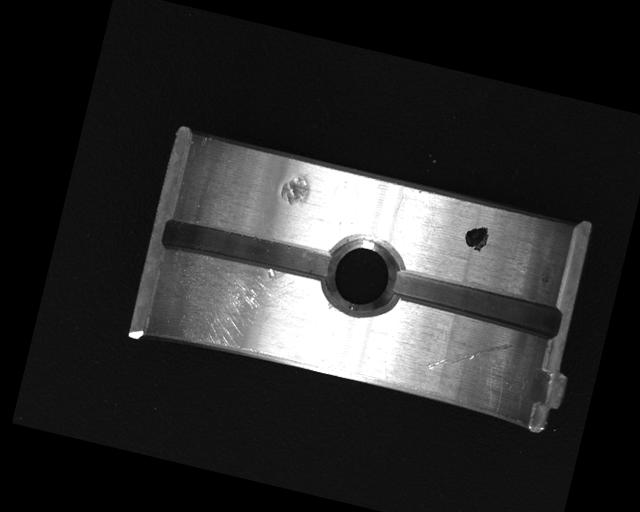blot: (461, 222, 491, 254)
bruise: (277, 167, 315, 209)
gap: (158, 213, 338, 289), (391, 267, 564, 338)
hole: (317, 227, 409, 325)
nick: (425, 325, 513, 389)
scratch: (154, 245, 327, 370)
